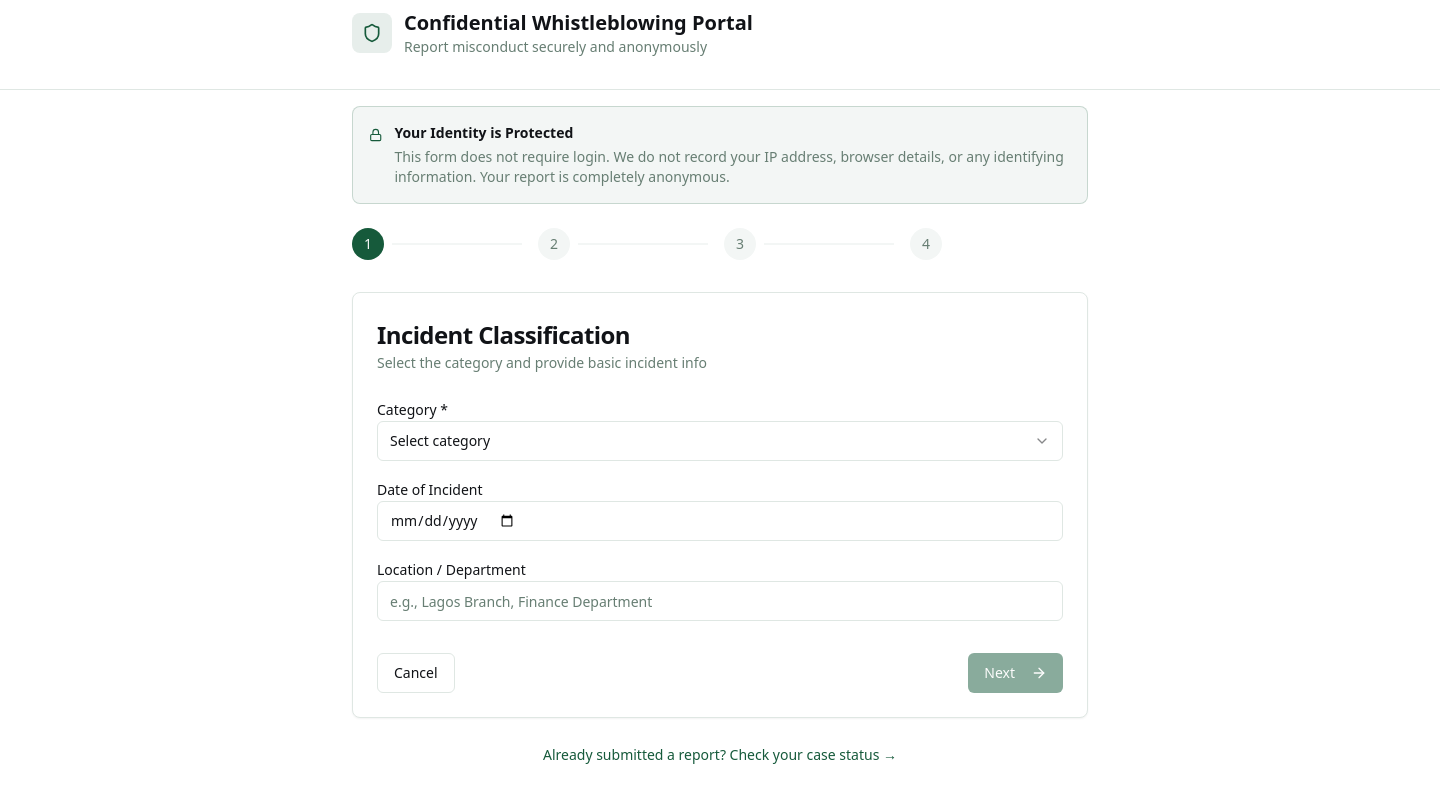
Scenario: WhistleblowSubmit page › allows navigating back to the previous step
This screenshot has width=1440, height=795.
Click the dropdown: (440,440) [377,421,1063,461]
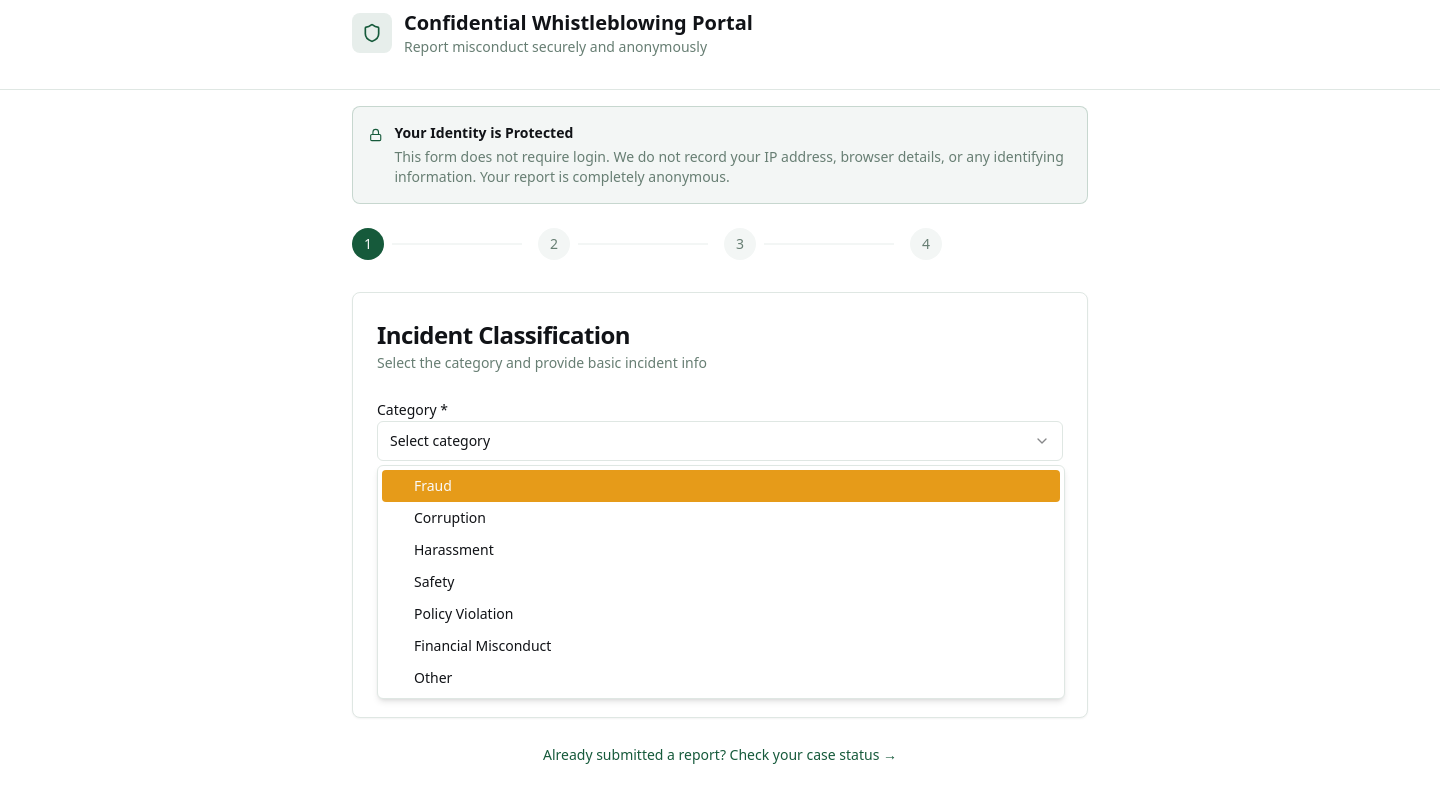
Click the option "Safety": (434,582) [414,572,454,591]
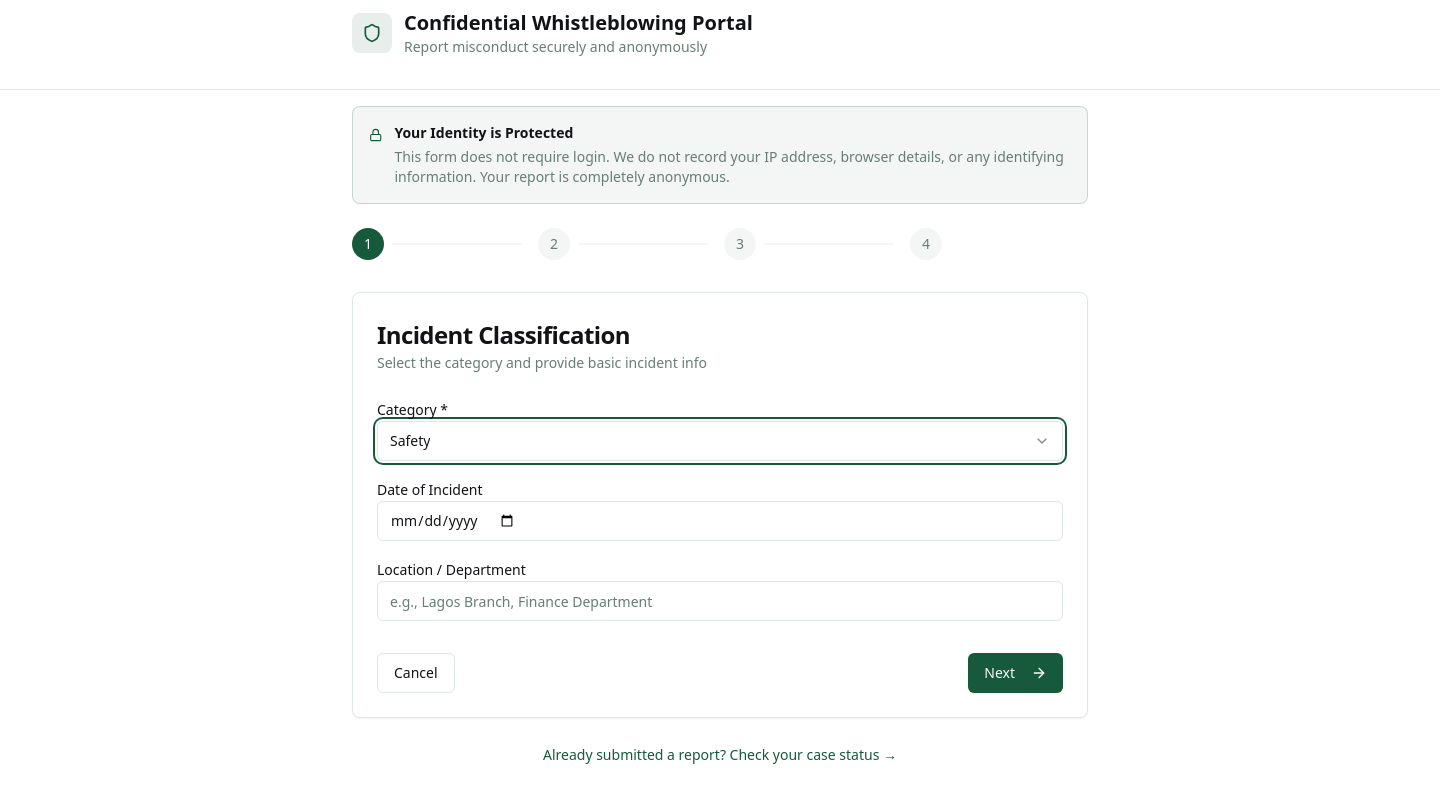
Click the button "Next": (1016,673) [968,653,1063,693]
(page scrolled)
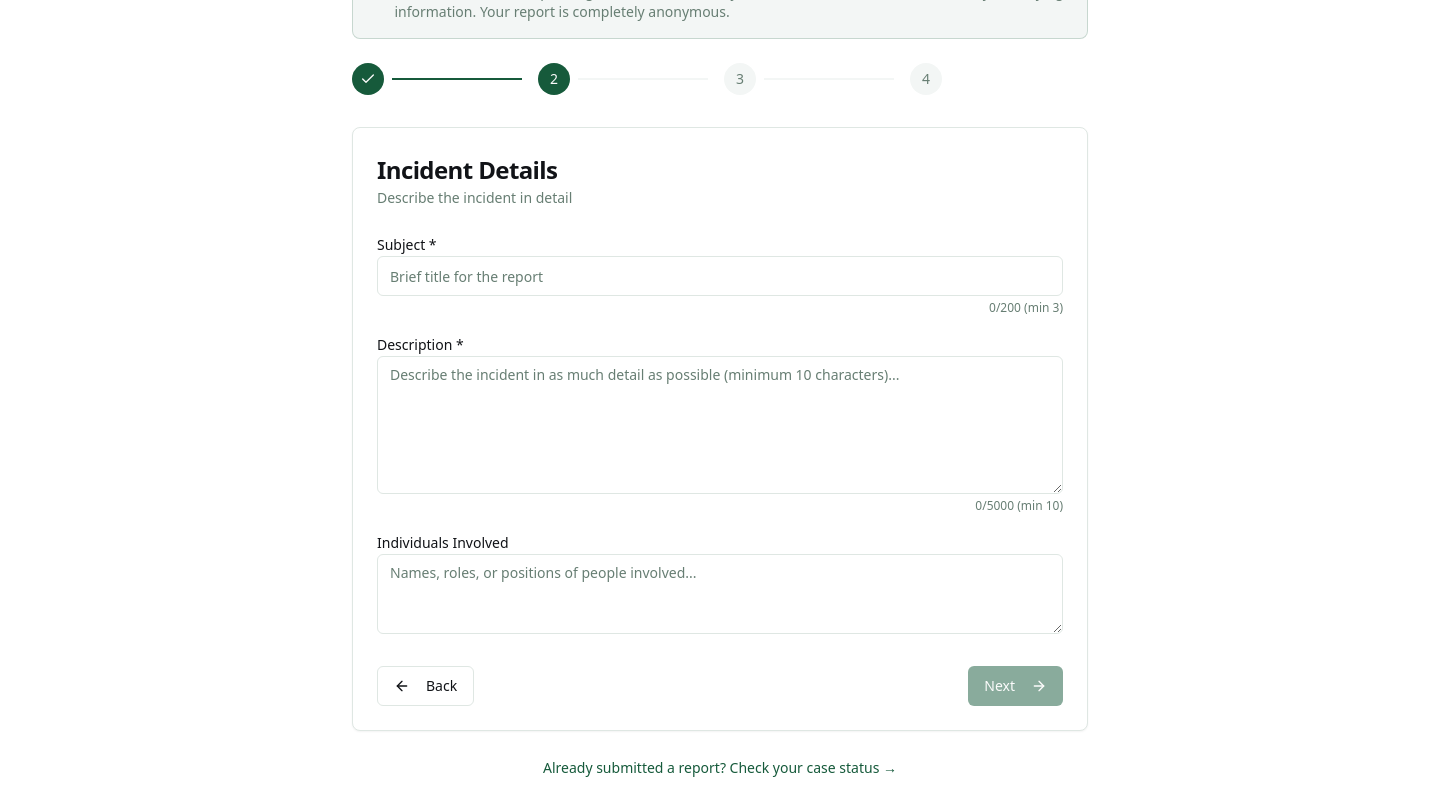
Expected: the heading "Incident Details" is shown, [377,153,557,186]
Click the button "Back": (426,686) [377,666,474,706]
(page scrolled)
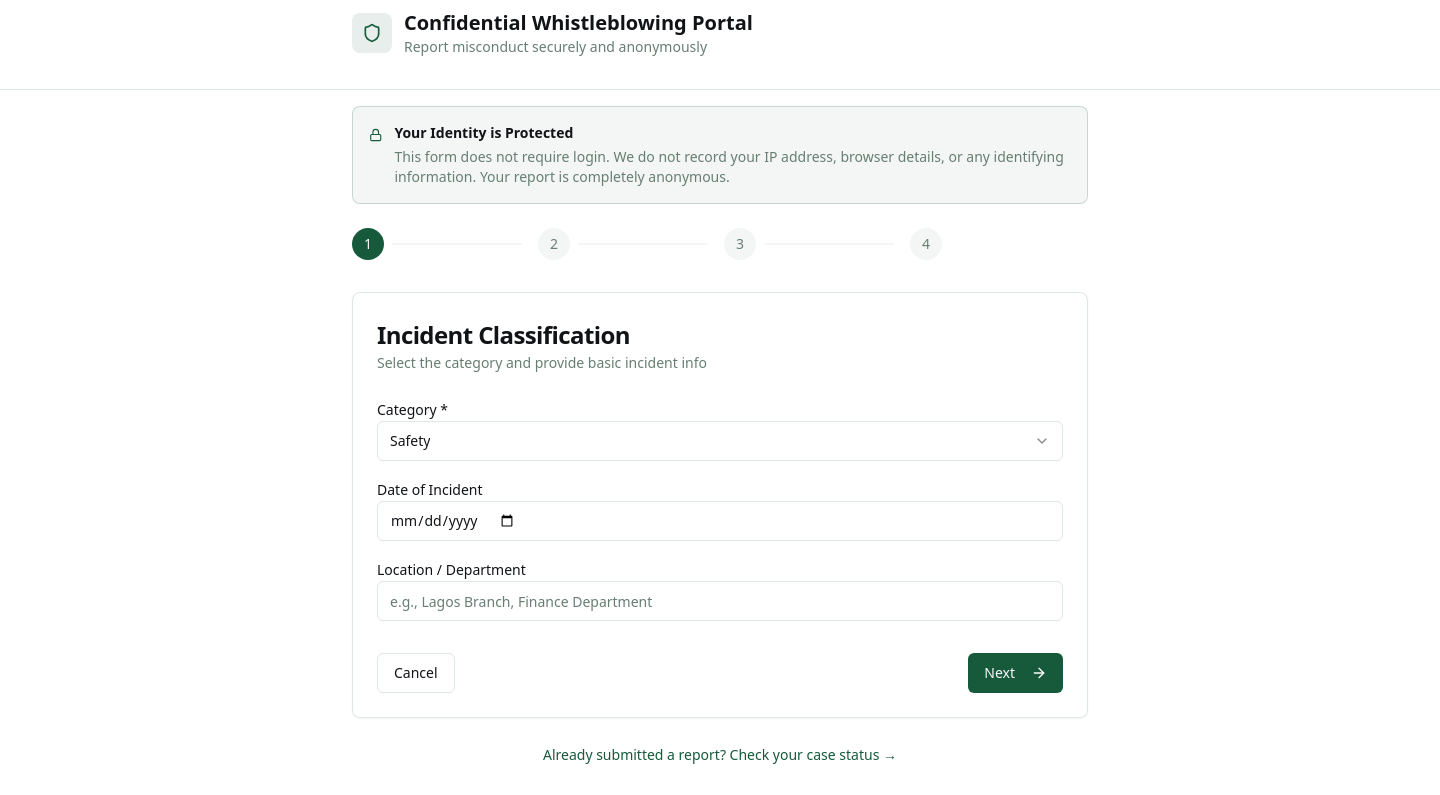
Expected: the heading "Incident Classification" is shown, [377,318,630,351]
